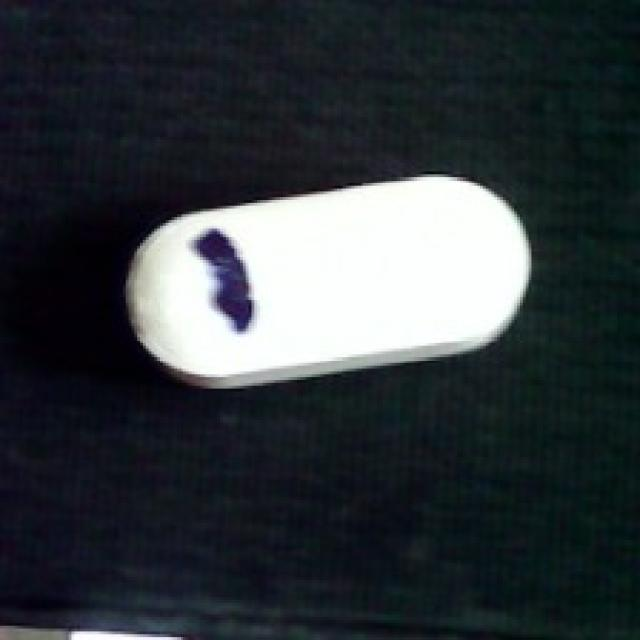defected: (115, 177, 534, 392)
